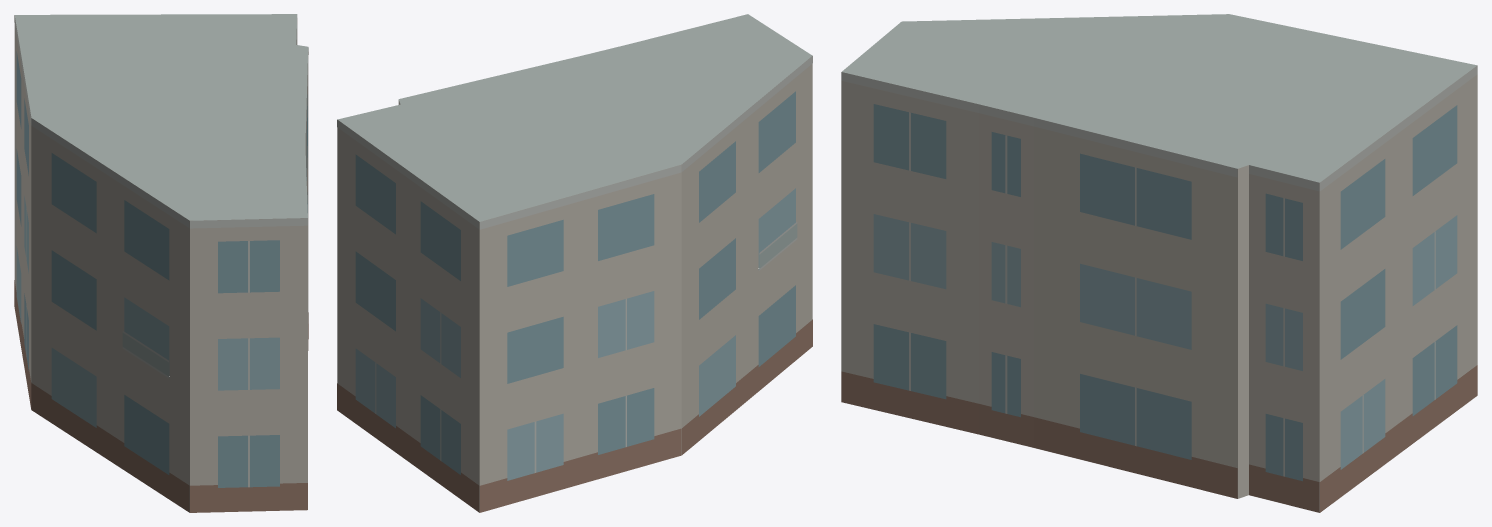
The model's file is survey-upis-32927305.glb.
3 views of the same model, side by side, from view 1: azimuth 30°, elevation 25°; view 2: azimuth 150°, elevation 25°; view 3: azimuth 270°, elevation 25° (orthographic). The views are drawn at different scales.
Visible parts, largest first — view 1: survey-upis-32927305.tmp; view 2: survey-upis-32927305.tmp; view 3: survey-upis-32927305.tmp.
Part boxes in pixels (x1,y1,x2,y2): survey-upis-32927305.tmp: [14, 14, 308, 512]; survey-upis-32927305.tmp: [337, 14, 812, 512]; survey-upis-32927305.tmp: [841, 14, 1477, 512].
Bounding box in the file's own units: 10.04 × 9.15 × 15.99.
